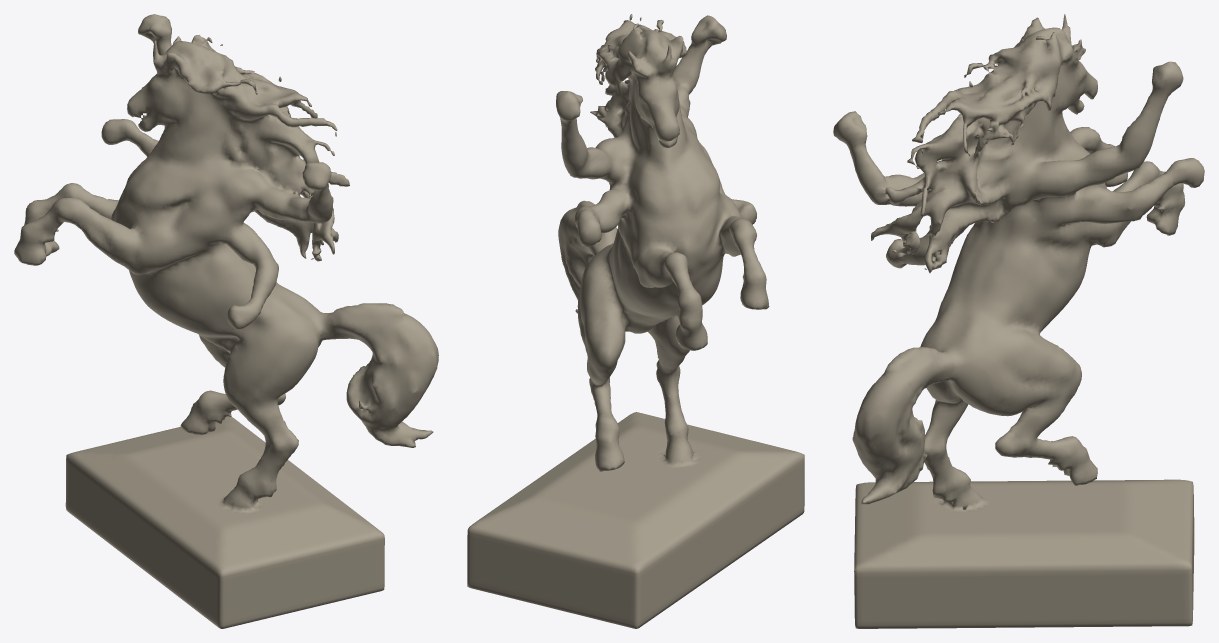
The model's file is 3.2_exam_3dscene_Pferd_Simpel.glb.
3 renders of one model, left to right at view 1: azimuth 30°, elevation 25°; view 2: azimuth 150°, elevation 25°; view 3: azimuth 270°, elevation 25°, orthographic. The views are drawn at different scales.
Parts seen in each view (by area): view 1: Pferd; view 2: Pferd; view 3: Pferd.
Boxes of the visible parts, x1,y1,x2,y2 form: Pferd: (14, 14, 438, 628); Pferd: (467, 14, 804, 628); Pferd: (833, 14, 1204, 628).
Bounding box in the file's own units: 5.87 × 9.37 × 5.76.
